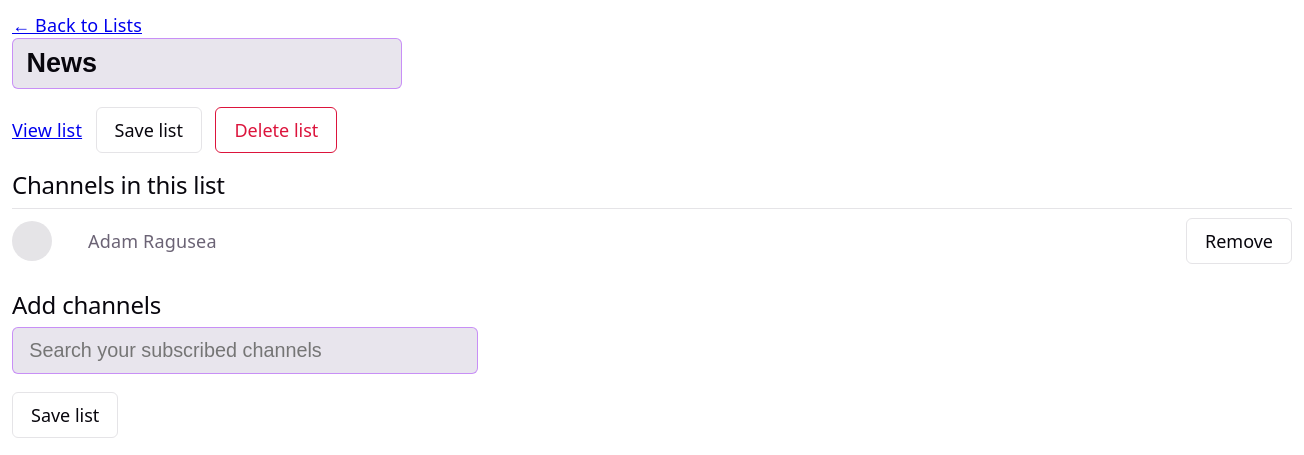
Scenario: ListEditorPage › saves the trimmed name and current channel selection, then reconciles from the server
Replace the text in the field showing "News" with "  Music  " at (207, 64), box [12,38,402,89]
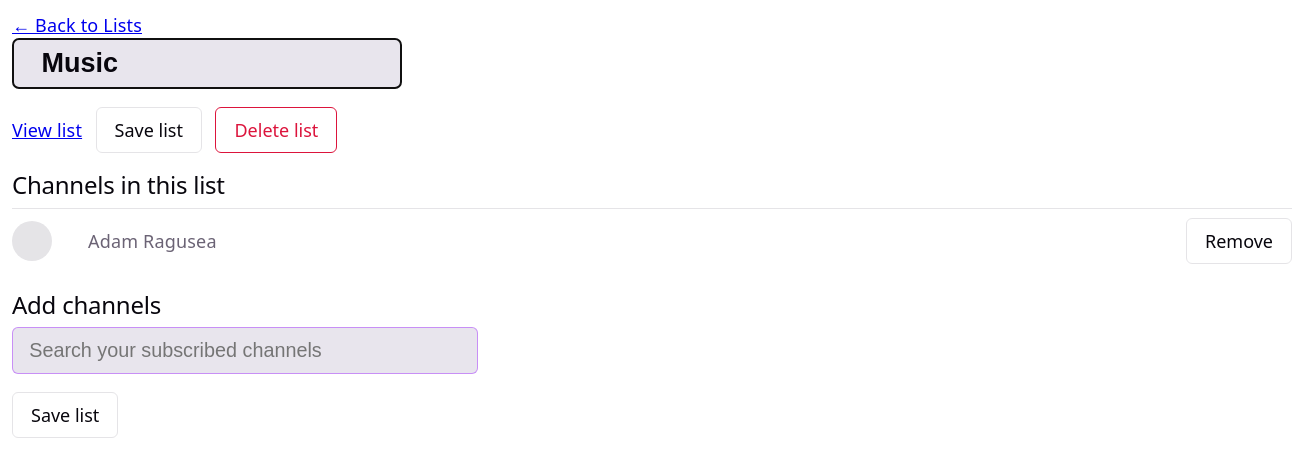
Click the button "Save list" next to "View list" at (149, 130), box [96,107,202,153]
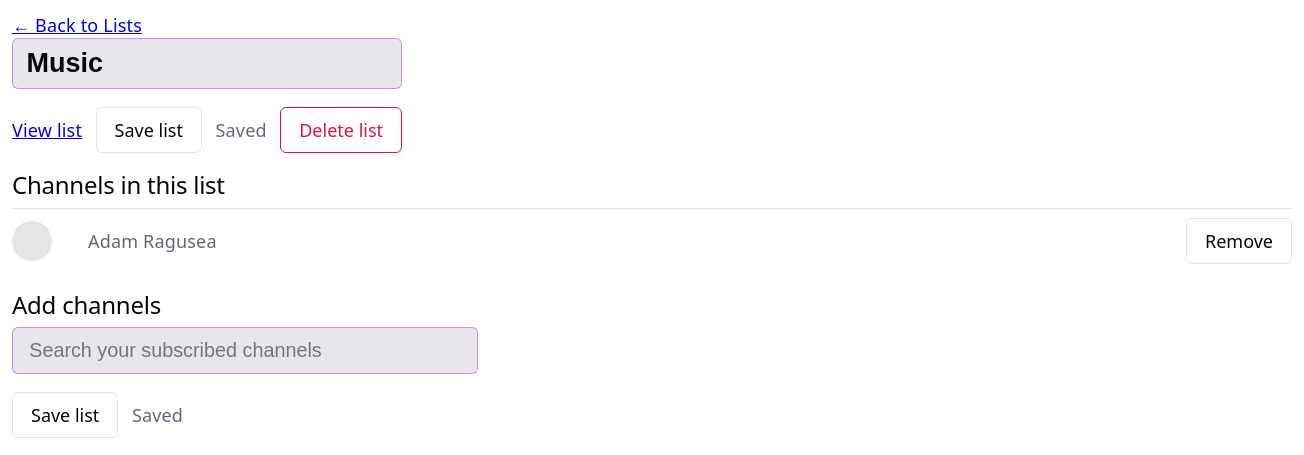
Now the text "Saved" is shown 2 times, box [216,118,267,142]; [132,402,183,426]
